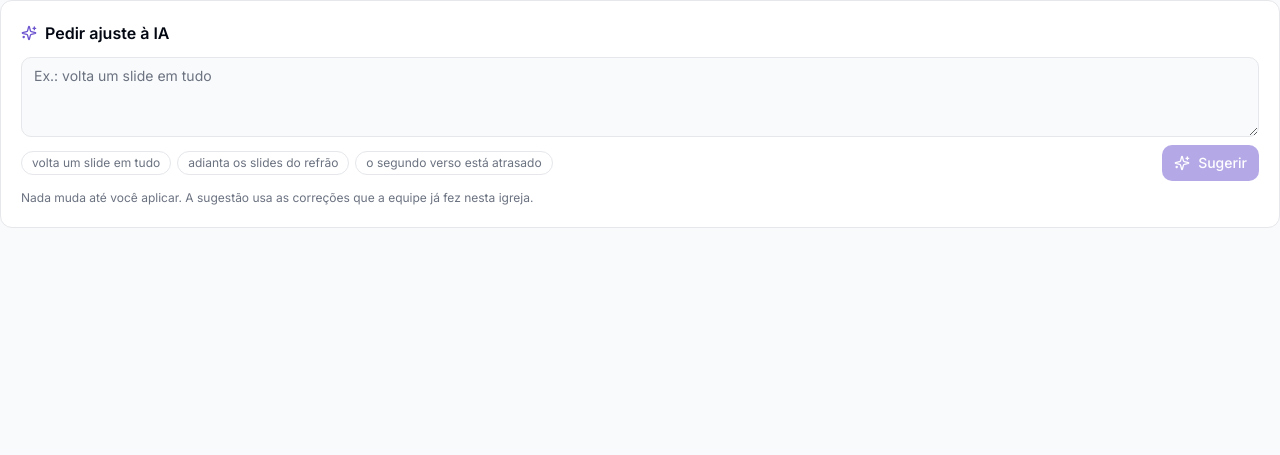
Test: TimingAiPanel › salva antes de perguntar, mostra a diferença e só aplica quando a pessoa aprova
Later steps or results of the test are not shown.
Type "adianta o refrão" into the text box named "O que ajustar nos tempos".
click(640, 97); type("adianta o refrão")  # box [21,57,1259,137]
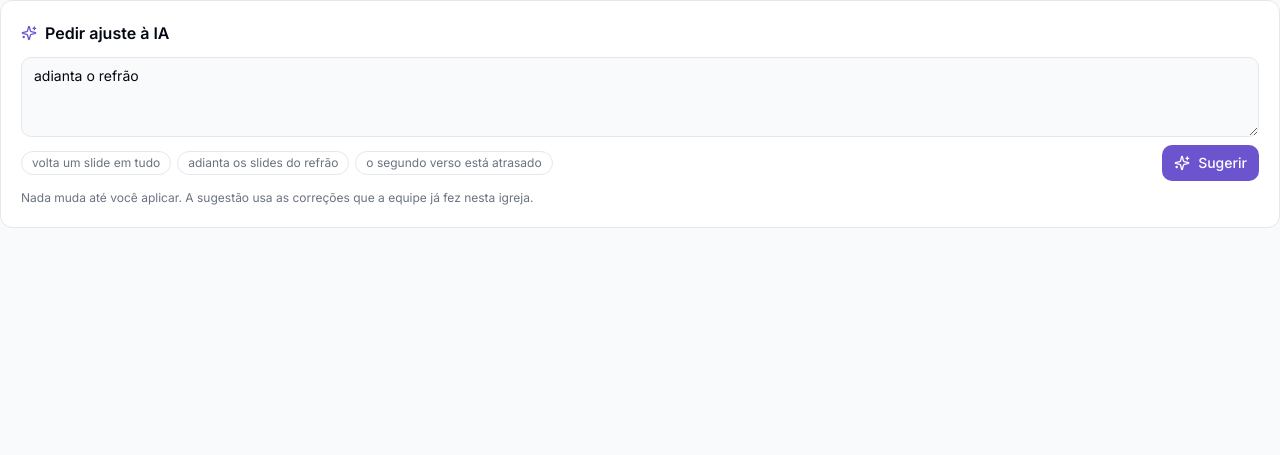
Click the button "Sugerir".
click(1211, 163)  # box [1162,145,1259,181]
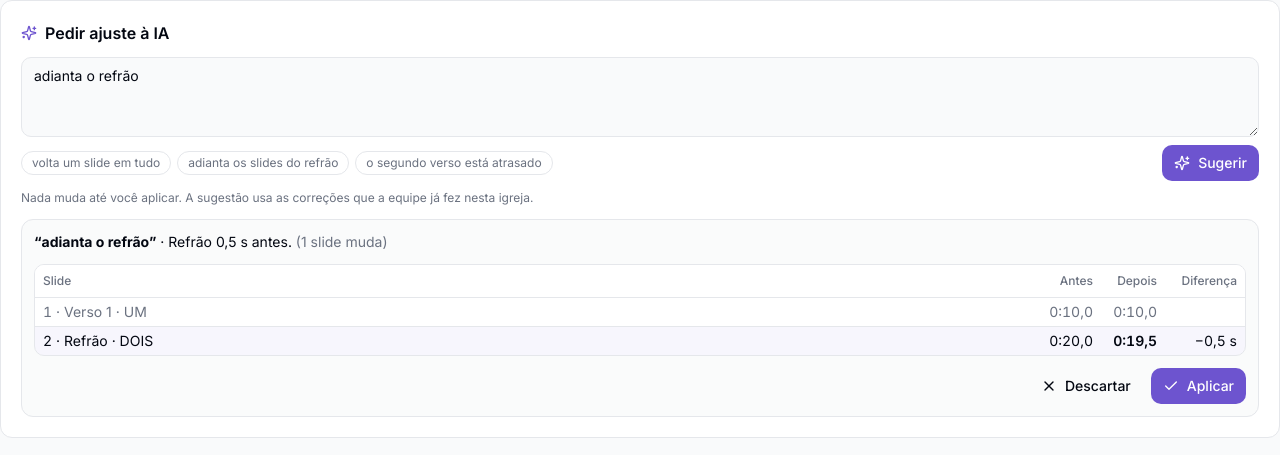
Now the text "“adianta o refrão” · Refrão 0,5 s antes. (1 slide muda)" is shown, box [34,233,388,250]
Now the text "−0,5 s" is shown, box [1165,326,1245,355]
